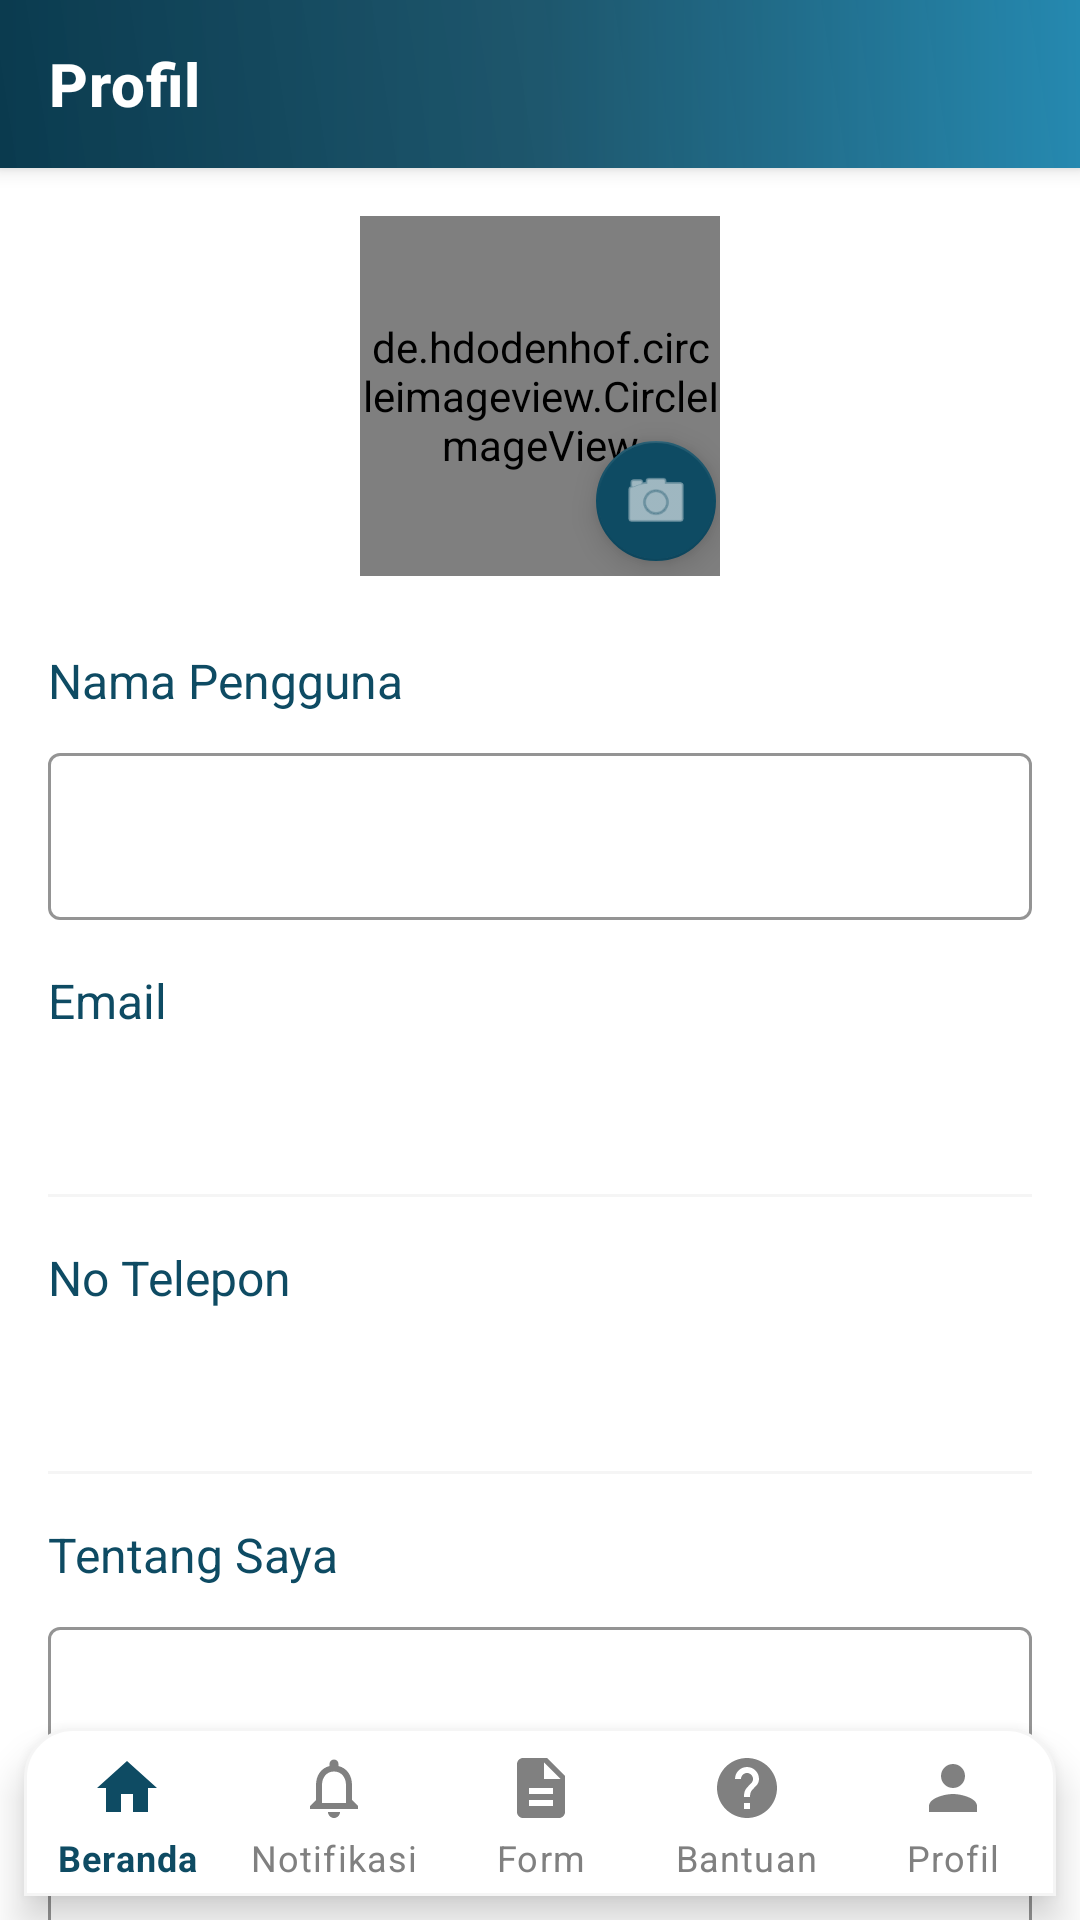

Screen size 1080*1920. Icon name, then its center in pixels as (x,y):
Change profile photo: (651,499)
